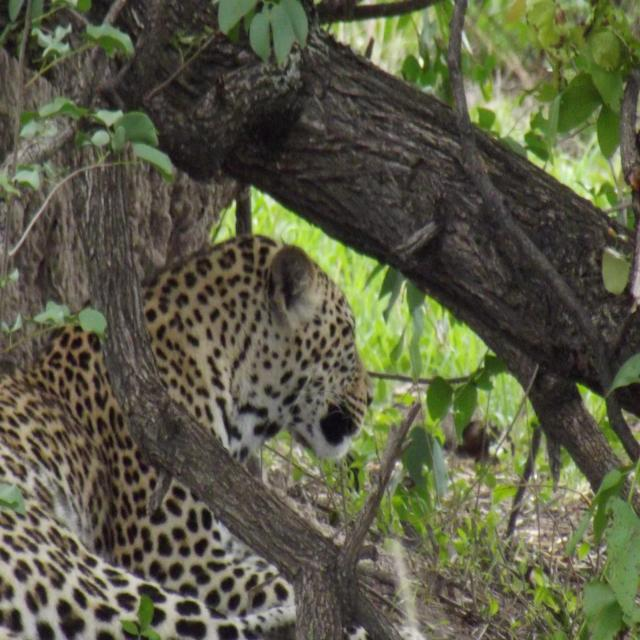Leopard: (5, 228, 399, 640)
